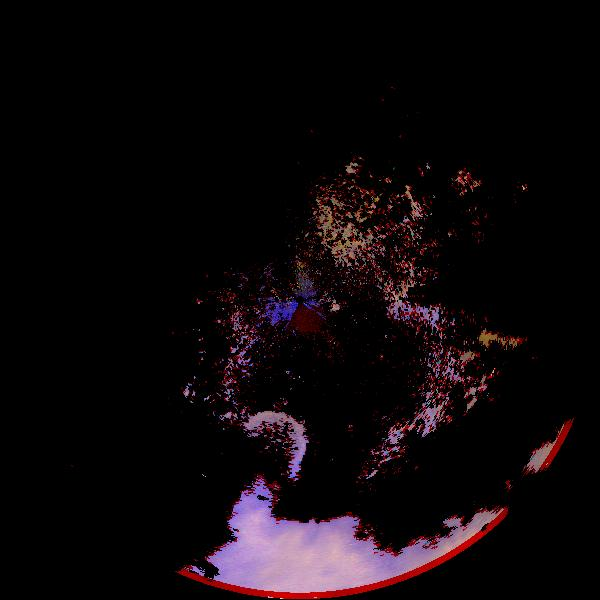roost: (233, 403, 317, 487)
